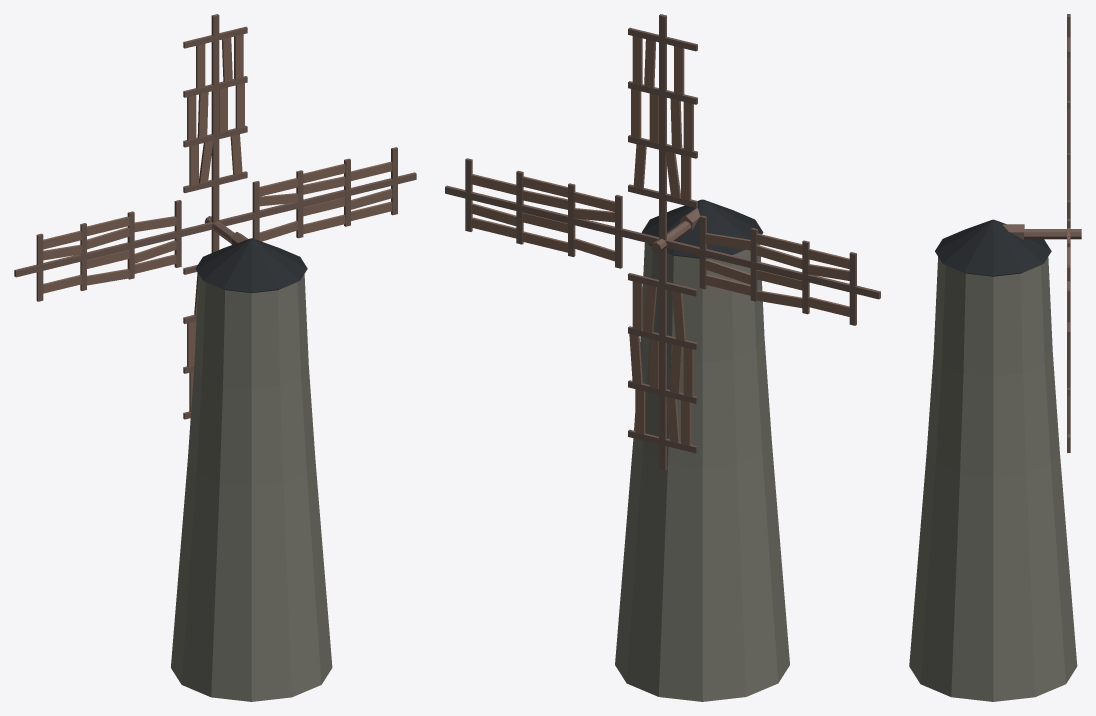
Rendered from windmill.glb.
3 views of the same model, side by side, from view 1: azimuth 30°, elevation 25°; view 2: azimuth 150°, elevation 25°; view 3: azimuth 270°, elevation 25° (orthographic). The views are drawn at different scales.
Parts seen in each view (by area): view 1: Cylinder.149; view 2: Cylinder.149; view 3: Cylinder.149.
Boxes of the visible parts, x1=… form: Cylinder.149: x1=14, y1=14, x2=416, y2=701; Cylinder.149: x1=445, y1=14, x2=880, y2=701; Cylinder.149: x1=909, y1=14, x2=1081, y2=701.
Size of the model in its own units: 0.3232 by 0.4827 by 0.1159.
